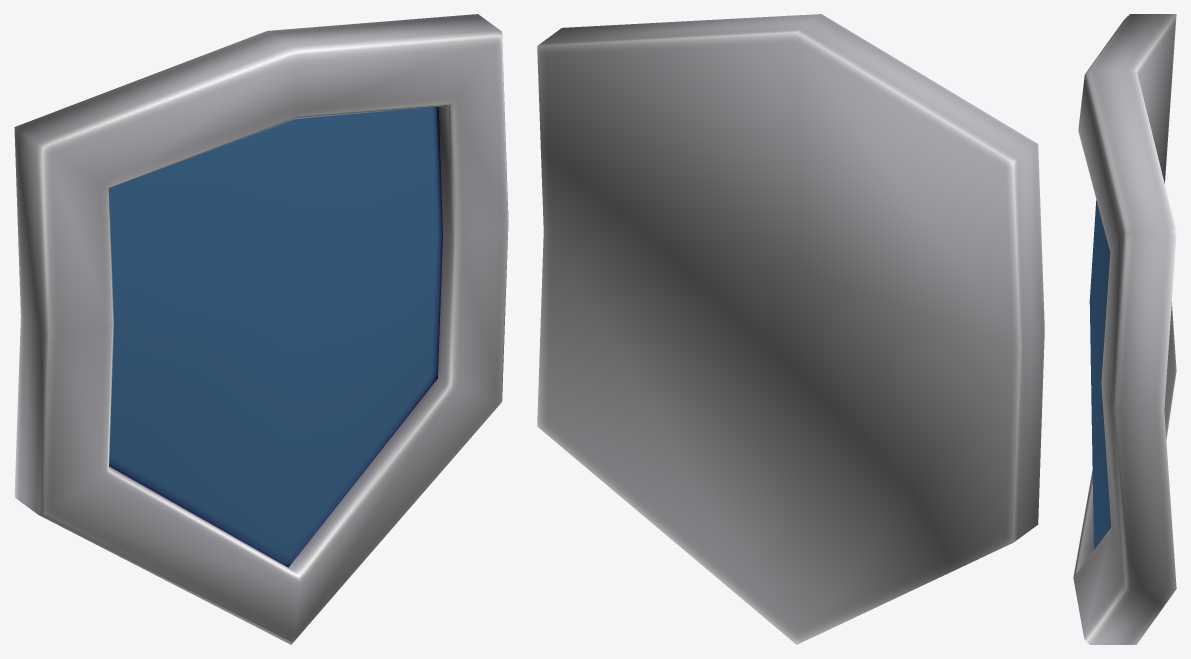
The model's file is Shield.fbx.
3 views of the same model, side by side, from view 1: azimuth 30°, elevation 25°; view 2: azimuth 150°, elevation 25°; view 3: azimuth 270°, elevation 25° (orthographic). The views are drawn at different scales.
Visible parts, largest first — view 1: Shield; view 2: Shield; view 3: Shield.
Boxes of the visible parts, x1,y1,x2,y2 form: Shield: [14, 14, 508, 644]; Shield: [537, 14, 1044, 644]; Shield: [1073, 14, 1176, 644].
Size of the model in its own units: 53.51 by 65.78 by 10.71.
